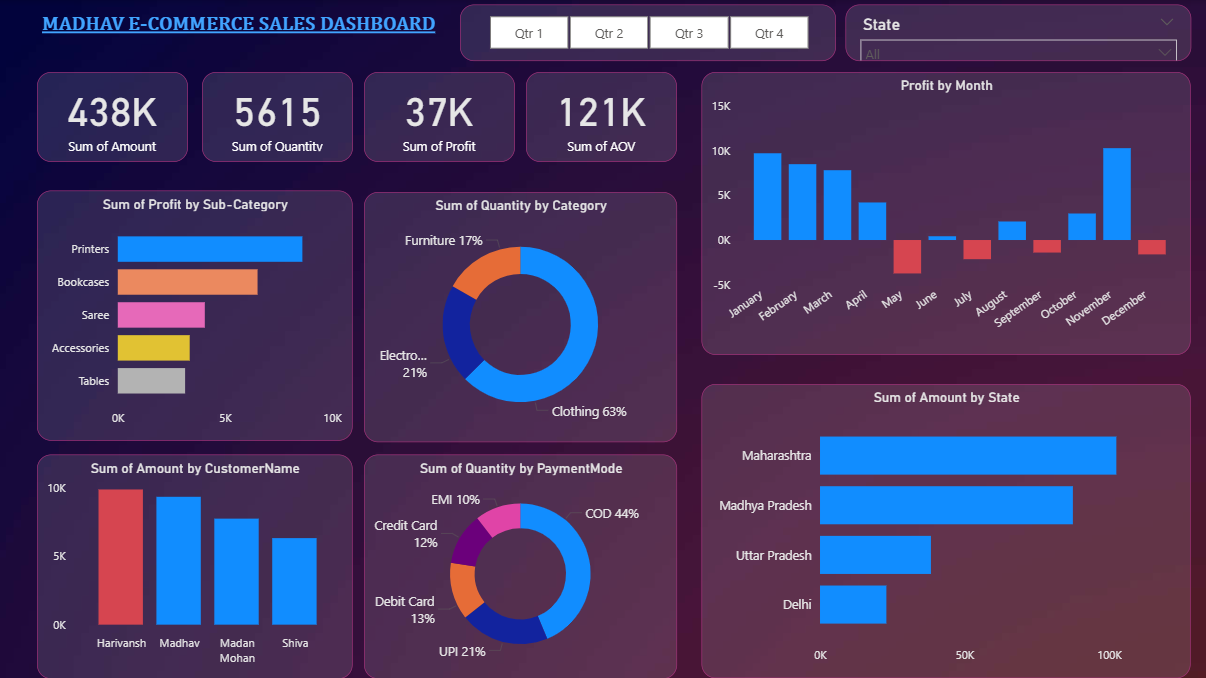

The page's visual inventory and layout, read from the dashboard file:
{"tool":"powerbi","page":{"name":"Page 1","canvas":[1280,720],"ordinal":0},"visuals":[{"type":"columnChart","title":"Profit by Month","fields":{"Category":["Orders.Order Date.Variation.Date Hierarchy.Month"],"Y":["Sum(Details.Profit)"]},"box":[746.7,75.6,518.9,300],"z":0},{"type":"barChart","fields":{"Category":["Details.Sub-Category"],"Y":["Sum(Details.Profit)"]},"box":[41.1,202.2,334.4,265.6],"z":1000},{"type":"donutChart","fields":{"Category":["Details.Category"],"Y":["Sum(Details.Quantity)"]},"box":[387.8,203.3,332.2,265.6],"z":2000},{"type":"donutChart","fields":{"Category":["Details.PaymentMode"],"Y":["Sum(Details.Quantity)"]},"box":[387.8,482.2,332.2,237.8],"z":3000},{"type":"card","fields":{"Values":["Sum(Details.Amount)"]},"box":[41.1,75.6,160,95],"z":4000},{"type":"card","fields":{"Values":["Sum(Details.Quantity)"]},"box":[215.6,75.6,160,95.6],"z":5000},{"type":"card","fields":{"Values":["Sum(Details.Profit)"]},"box":[387.8,75.6,160,95.6],"z":6000},{"type":"card","fields":{"Values":["Sum(Details.AOV)"]},"box":[560,75.6,160,95.6],"z":7000},{"type":"barChart","fields":{"Category":["Orders.State"],"Y":["Sum(Details.Amount)"]},"box":[746.7,407.8,518.9,312.2],"z":8000},{"type":"columnChart","fields":{"Category":["Orders.CustomerName"],"Y":["Sum(Details.Amount)"]},"box":[41.1,482.2,334.4,237.8],"z":9000},{"type":"slicer","fields":{"Values":["Orders.Order Date.Variation.Date Hierarchy.Quarter"]},"box":[490,5.6,398.9,60],"z":10000},{"type":"slicer","fields":{"Values":["Orders.State"]},"box":[898.9,5.6,366.7,60],"z":11000},{"type":"textbox","box":[40.7,8.5,449.2,55.9],"z":12000}]}

Visuals, with their boxes in screenshot pixels (x1, y1, x2, y2), scaled from the page's 1280x720 canvas onto the 1206x678 screenshot:
"Profit by Month" columnChart: bbox=(704, 71, 1192, 354)
barChart - Details.Sub-Category x Sum(Details.Profit): bbox=(39, 190, 354, 441)
donutChart - Details.Category x Sum(Details.Quantity): bbox=(365, 191, 678, 442)
donutChart - Details.PaymentMode x Sum(Details.Quantity): bbox=(365, 454, 678, 677)
card - Sum(Details.Amount): bbox=(39, 71, 189, 161)
card - Sum(Details.Quantity): bbox=(203, 71, 354, 161)
card - Sum(Details.Profit): bbox=(365, 71, 516, 161)
card - Sum(Details.AOV): bbox=(528, 71, 678, 161)
barChart - Orders.State x Sum(Details.Amount): bbox=(704, 384, 1192, 677)
columnChart - Orders.CustomerName x Sum(Details.Amount): bbox=(39, 454, 354, 677)
slicer - Orders.Order Date.Variation.Date Hierarchy.Quarter: bbox=(462, 5, 838, 62)
slicer - Orders.State: bbox=(847, 5, 1192, 62)
textbox: bbox=(38, 8, 462, 61)
